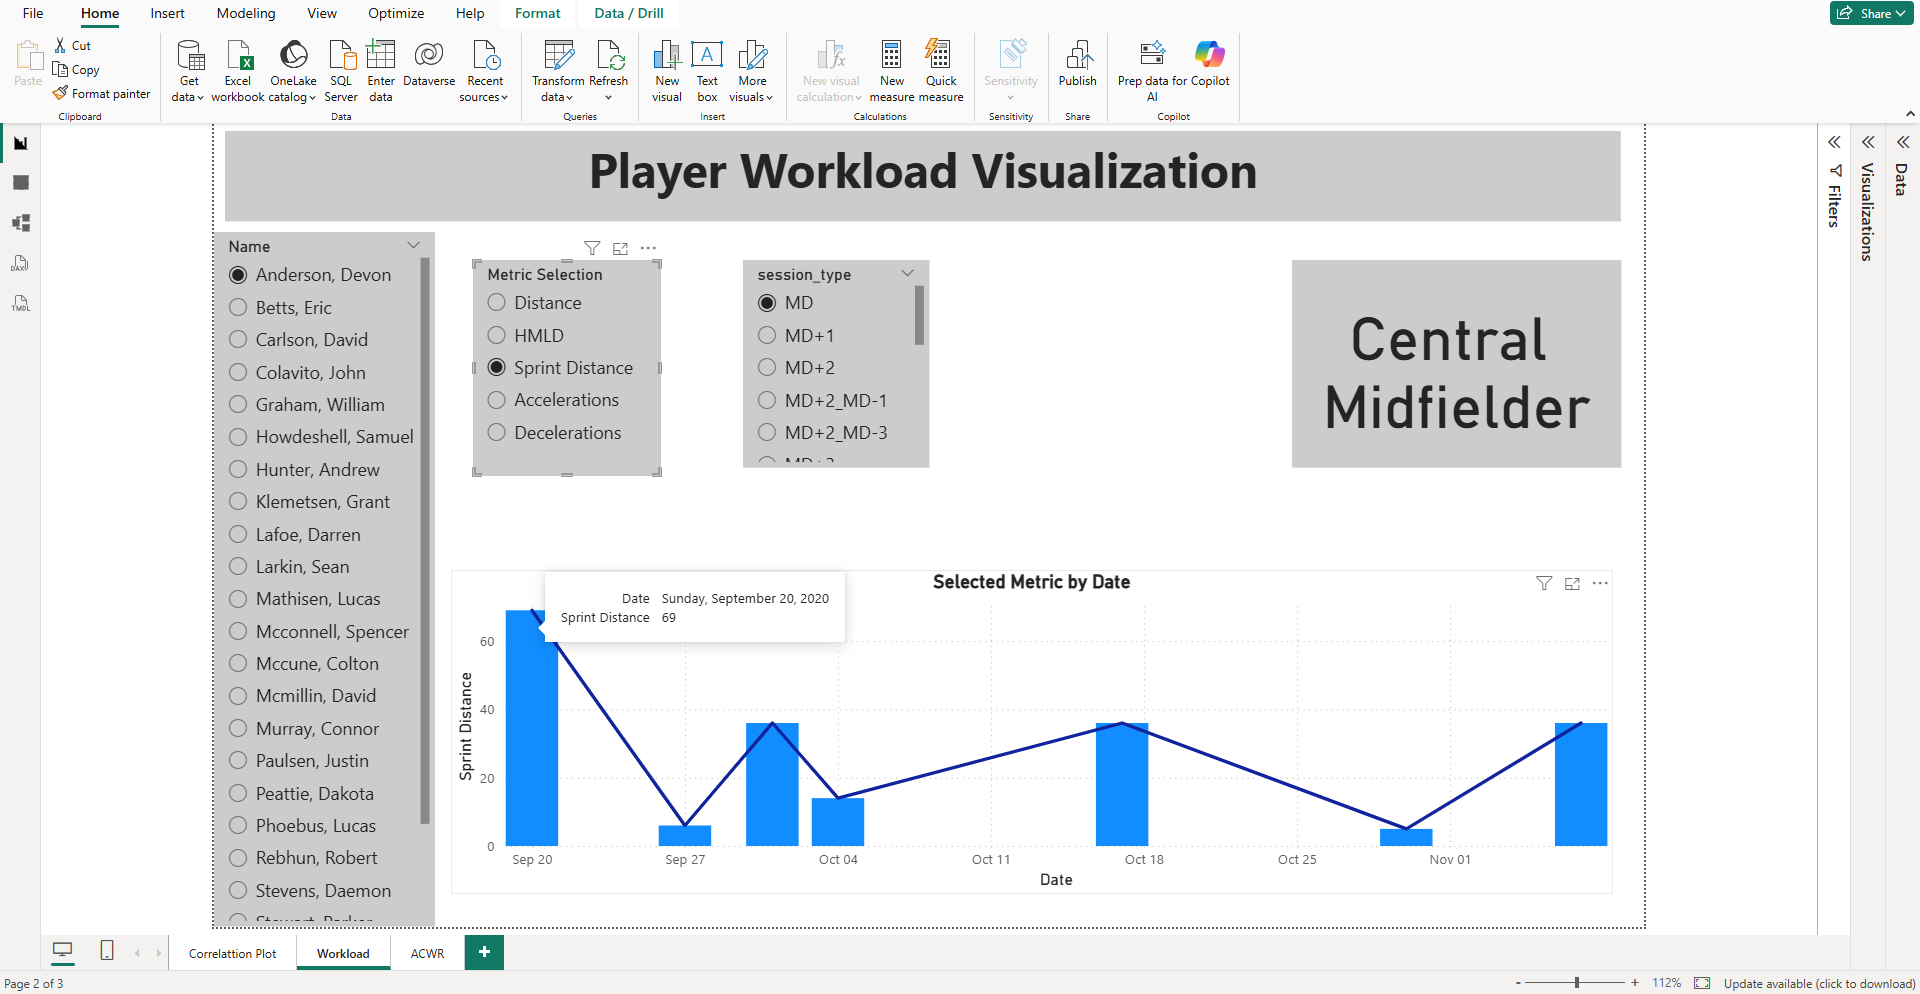

The page's visual inventory and layout, read from the dashboard file:
{"tool":"powerbi","page":{"name":"Workload","canvas":[1280,720],"ordinal":1},"visuals":[{"type":"slicer","fields":{"Values":["daily_gps_data.Name"]},"box":[0,97.6,197.9,622.4],"z":2000},{"type":"textbox","box":[9.9,7.2,1250.1,80.6],"z":2001},{"type":"lineStackedColumnComboChart","title":"Selected Metric by Date","fields":{"Category":["daily_gps_data.Date"],"Y":["daily_gps_data.Total HMLD"],"Y2":["daily_gps_data.Total HMLD"]},"box":[212.2,400.3,1040.6,290.1],"z":2002},{"type":"slicer","fields":{"Values":["daily_gps_data.session_type"]},"box":[473.7,122.7,166.6,186.3],"z":2003},{"type":"slicer","fields":{"Values":["Metric Selection.Metric Selection"]},"box":[231.9,122.7,168.4,193.4],"z":2004},{"type":"card","fields":{"Values":["Min(daily_gps_data.Position)"]},"box":[965.4,122.7,294.6,186.3],"z":2005}]}

Visuals, with their boxes on the page's 1280x720 design canvas (x1, y1, x2, y2). These are canvas units, not pixel positions in the 1920x994 screenshot, which may show the page scaled, cropped or inside an application window:
slicer - daily_gps_data.Name: bbox(0, 98, 198, 720)
textbox: bbox(10, 7, 1260, 88)
"Selected Metric by Date" lineStackedColumnComboChart: bbox(212, 400, 1253, 690)
slicer - daily_gps_data.session_type: bbox(474, 123, 640, 309)
slicer - Metric Selection.Metric Selection: bbox(232, 123, 400, 316)
card - Min(daily_gps_data.Position): bbox(965, 123, 1260, 309)
